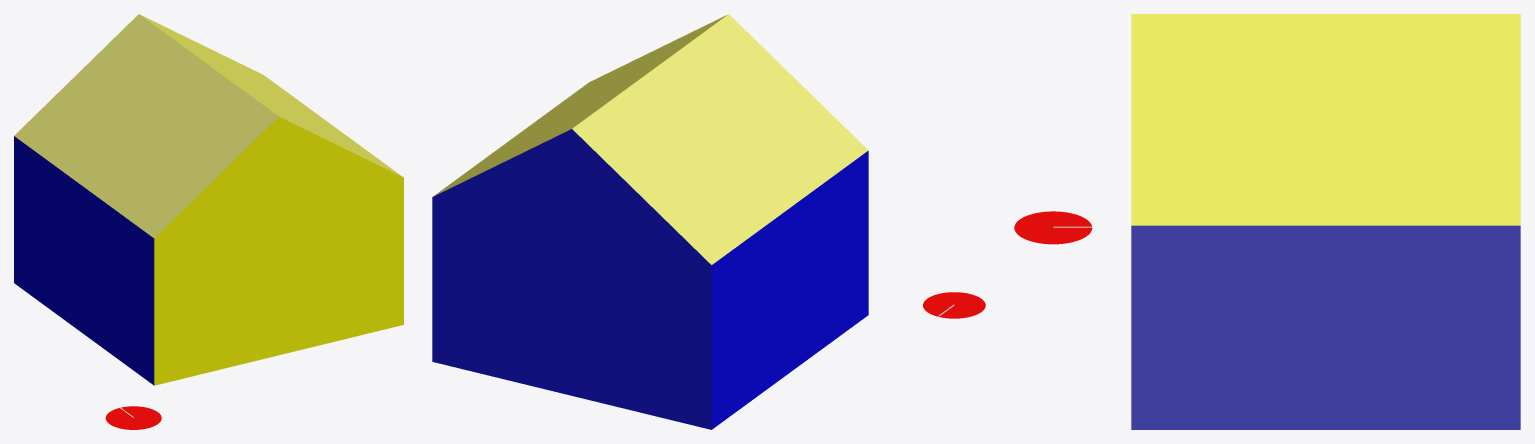
File: result.glb
3 renders of one model, left to right at view 1: azimuth 30°, elevation 25°; view 2: azimuth 150°, elevation 25°; view 3: azimuth 270°, elevation 25°, orthographic. The views are drawn at different scales.
Parts seen in each view (by area): view 1: 3603df14-ffd8-4fc6-82c7-d6d600148fda__undefined, 9f2cdbf4-053c-4c56-97f4-e9329490ebf0__undefined, 5462378e-e2c1-4e36-bc70-0f0b275fd4eb__undefined, ed33538e-5e8e-4c42-bea5-0728a7610f27__undefined, 413e5363-0999-4ca7-b651-8b1d2541a44d__Circle; view 2: 9946206e-4ea8-45db-8a70-b7ca66ea42b4__undefined, 9f2cdbf4-053c-4c56-97f4-e9329490ebf0__undefined, 5462378e-e2c1-4e36-bc70-0f0b275fd4eb__undefined, ed33538e-5e8e-4c42-bea5-0728a7610f27__undefined, 413e5363-0999-4ca7-b651-8b1d2541a44d__Circle; view 3: ed33538e-5e8e-4c42-bea5-0728a7610f27__undefined, d0e859a0-3aa4-4634-b0c6-7b41714ddd5b__undefined, 413e5363-0999-4ca7-b651-8b1d2541a44d__Circle.
Part boxes in pixels (<box>): 3603df14-ffd8-4fc6-82c7-d6d600148fda__undefined: <box>154,117,403,385</box>; 9f2cdbf4-053c-4c56-97f4-e9329490ebf0__undefined: <box>14,14,278,238</box>; 5462378e-e2c1-4e36-bc70-0f0b275fd4eb__undefined: <box>14,136,154,385</box>; ed33538e-5e8e-4c42-bea5-0728a7610f27__undefined: <box>139,14,402,176</box>; 413e5363-0999-4ca7-b651-8b1d2541a44d__Circle: <box>105,406,161,429</box>; 9946206e-4ea8-45db-8a70-b7ca66ea42b4__undefined: <box>432,129,711,429</box>; 9f2cdbf4-053c-4c56-97f4-e9329490ebf0__undefined: <box>572,14,868,264</box>; 5462378e-e2c1-4e36-bc70-0f0b275fd4eb__undefined: <box>711,150,868,429</box>; ed33538e-5e8e-4c42-bea5-0728a7610f27__undefined: <box>433,15,726,196</box>; 413e5363-0999-4ca7-b651-8b1d2541a44d__Circle: <box>923,292,985,318</box>; ed33538e-5e8e-4c42-bea5-0728a7610f27__undefined: <box>1131,14,1520,225</box>; d0e859a0-3aa4-4634-b0c6-7b41714ddd5b__undefined: <box>1131,225,1520,429</box>; 413e5363-0999-4ca7-b651-8b1d2541a44d__Circle: <box>1014,211,1092,244</box>.
Bounding box in the file's own units: 664 × 469 × 650.
